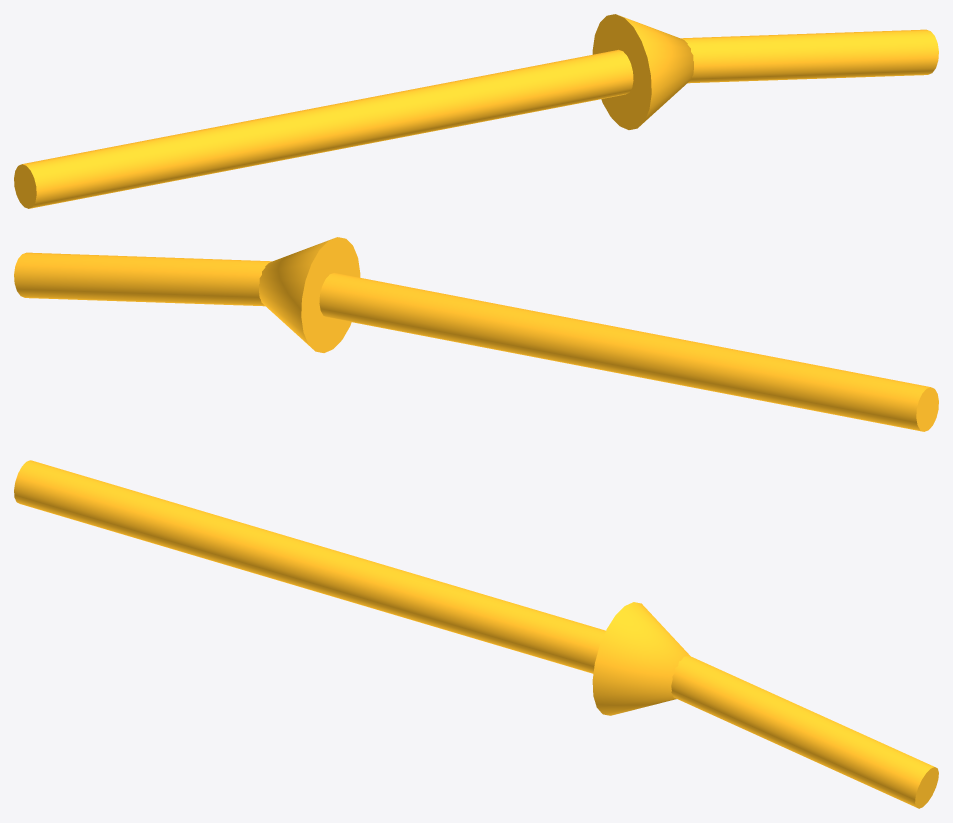
The model's file is oil_seal_flow.glb.
3 renders of one model, top to bottom at view 1: azimuth 30°, elevation 25°; view 2: azimuth 150°, elevation 25°; view 3: azimuth 330°, elevation 25°, orthographic.
Parts seen in each view (by area): view 1: oil_splash; view 2: oil_splash; view 3: oil_splash.
Part boxes in pixels (box(x1,y1,x2,y2)): oil_splash: box(14, 14, 938, 208); oil_splash: box(14, 237, 938, 431); oil_splash: box(14, 460, 938, 808).
Size of the model in its own units: 0.0553 by 0.00747 by 0.00624.
